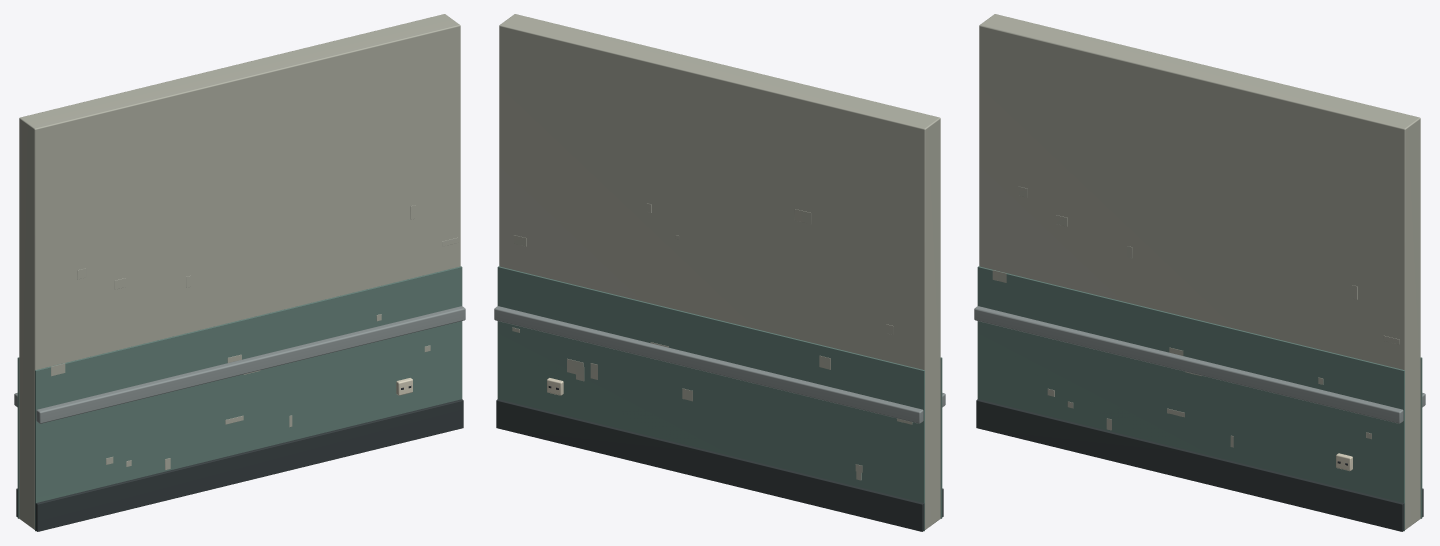
The model's file is H_Wall_Detailed.fbx.
3 views of the same model, side by side, from view 1: azimuth 30°, elevation 25°; view 2: azimuth 150°, elevation 25°; view 3: azimuth 330°, elevation 25° (orthographic).
Parts seen in each view (by area): view 1: H_Wall_Detailed; view 2: H_Wall_Detailed; view 3: H_Wall_Detailed.
Boxes of the visible parts, x1=… form: H_Wall_Detailed: x1=14, y1=14, x2=465, y2=531; H_Wall_Detailed: x1=494, y1=14, x2=945, y2=531; H_Wall_Detailed: x1=974, y1=14, x2=1425, y2=531.
Size of the model in its own units: 4 by 3.6 by 0.425.
